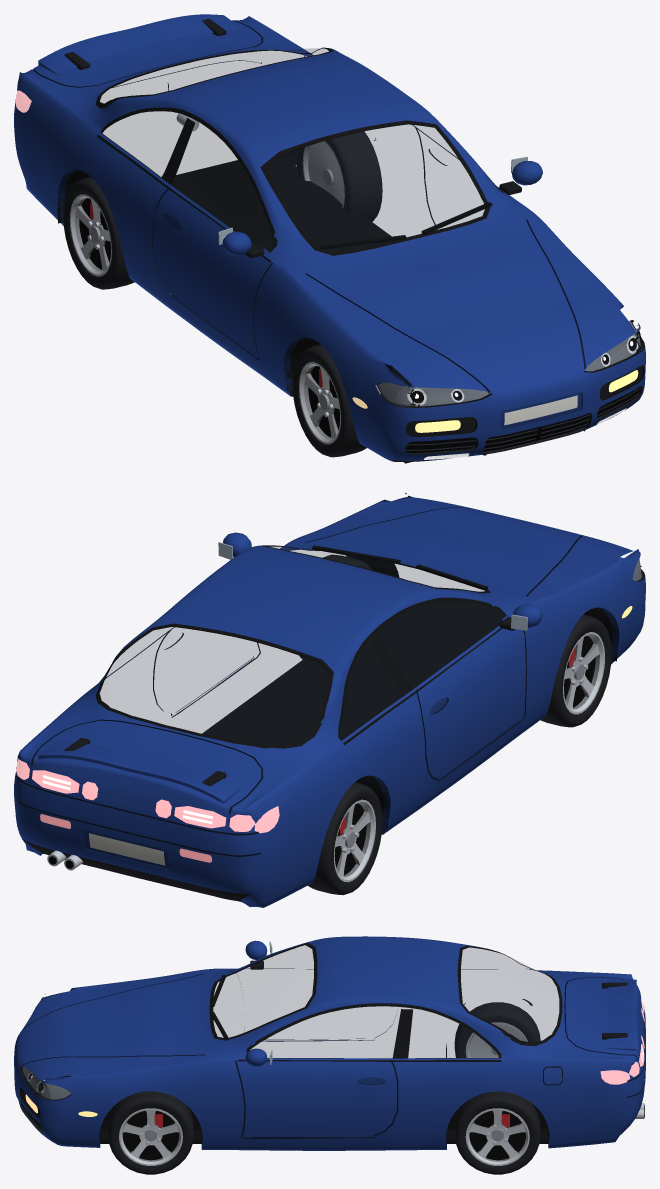
Rendered from car_s14_blue.glb.
The picture shows the model from 3 angles, top to bottom: view 1: azimuth 30°, elevation 25°; view 2: azimuth 150°, elevation 25°; view 3: azimuth 270°, elevation 25°; orthographic projection. The views are drawn at different scales.
Parts seen in each view (by area): view 1: body, wheel_fl, wheel_rl, wheel_rr; view 2: body, wheel_rl, wheel_fl; view 3: body, wheel_rr, wheel_fr, wheel_rl.
Part boxes in pixels (x1,y1,x2,y2): body: [14, 14, 645, 463]; wheel_fl: [292, 344, 366, 457]; wheel_rl: [63, 177, 134, 289]; wheel_rr: [296, 131, 382, 221]; body: [14, 492, 645, 907]; wheel_rl: [307, 782, 382, 895]; wheel_fl: [540, 614, 611, 727]; body: [14, 936, 645, 1150]; wheel_rr: [454, 1091, 540, 1174]; wheel_fr: [108, 1091, 193, 1174]; wheel_rl: [454, 1002, 540, 1057].
Size of the model in its own units: 2 by 1.31 by 4.58.
